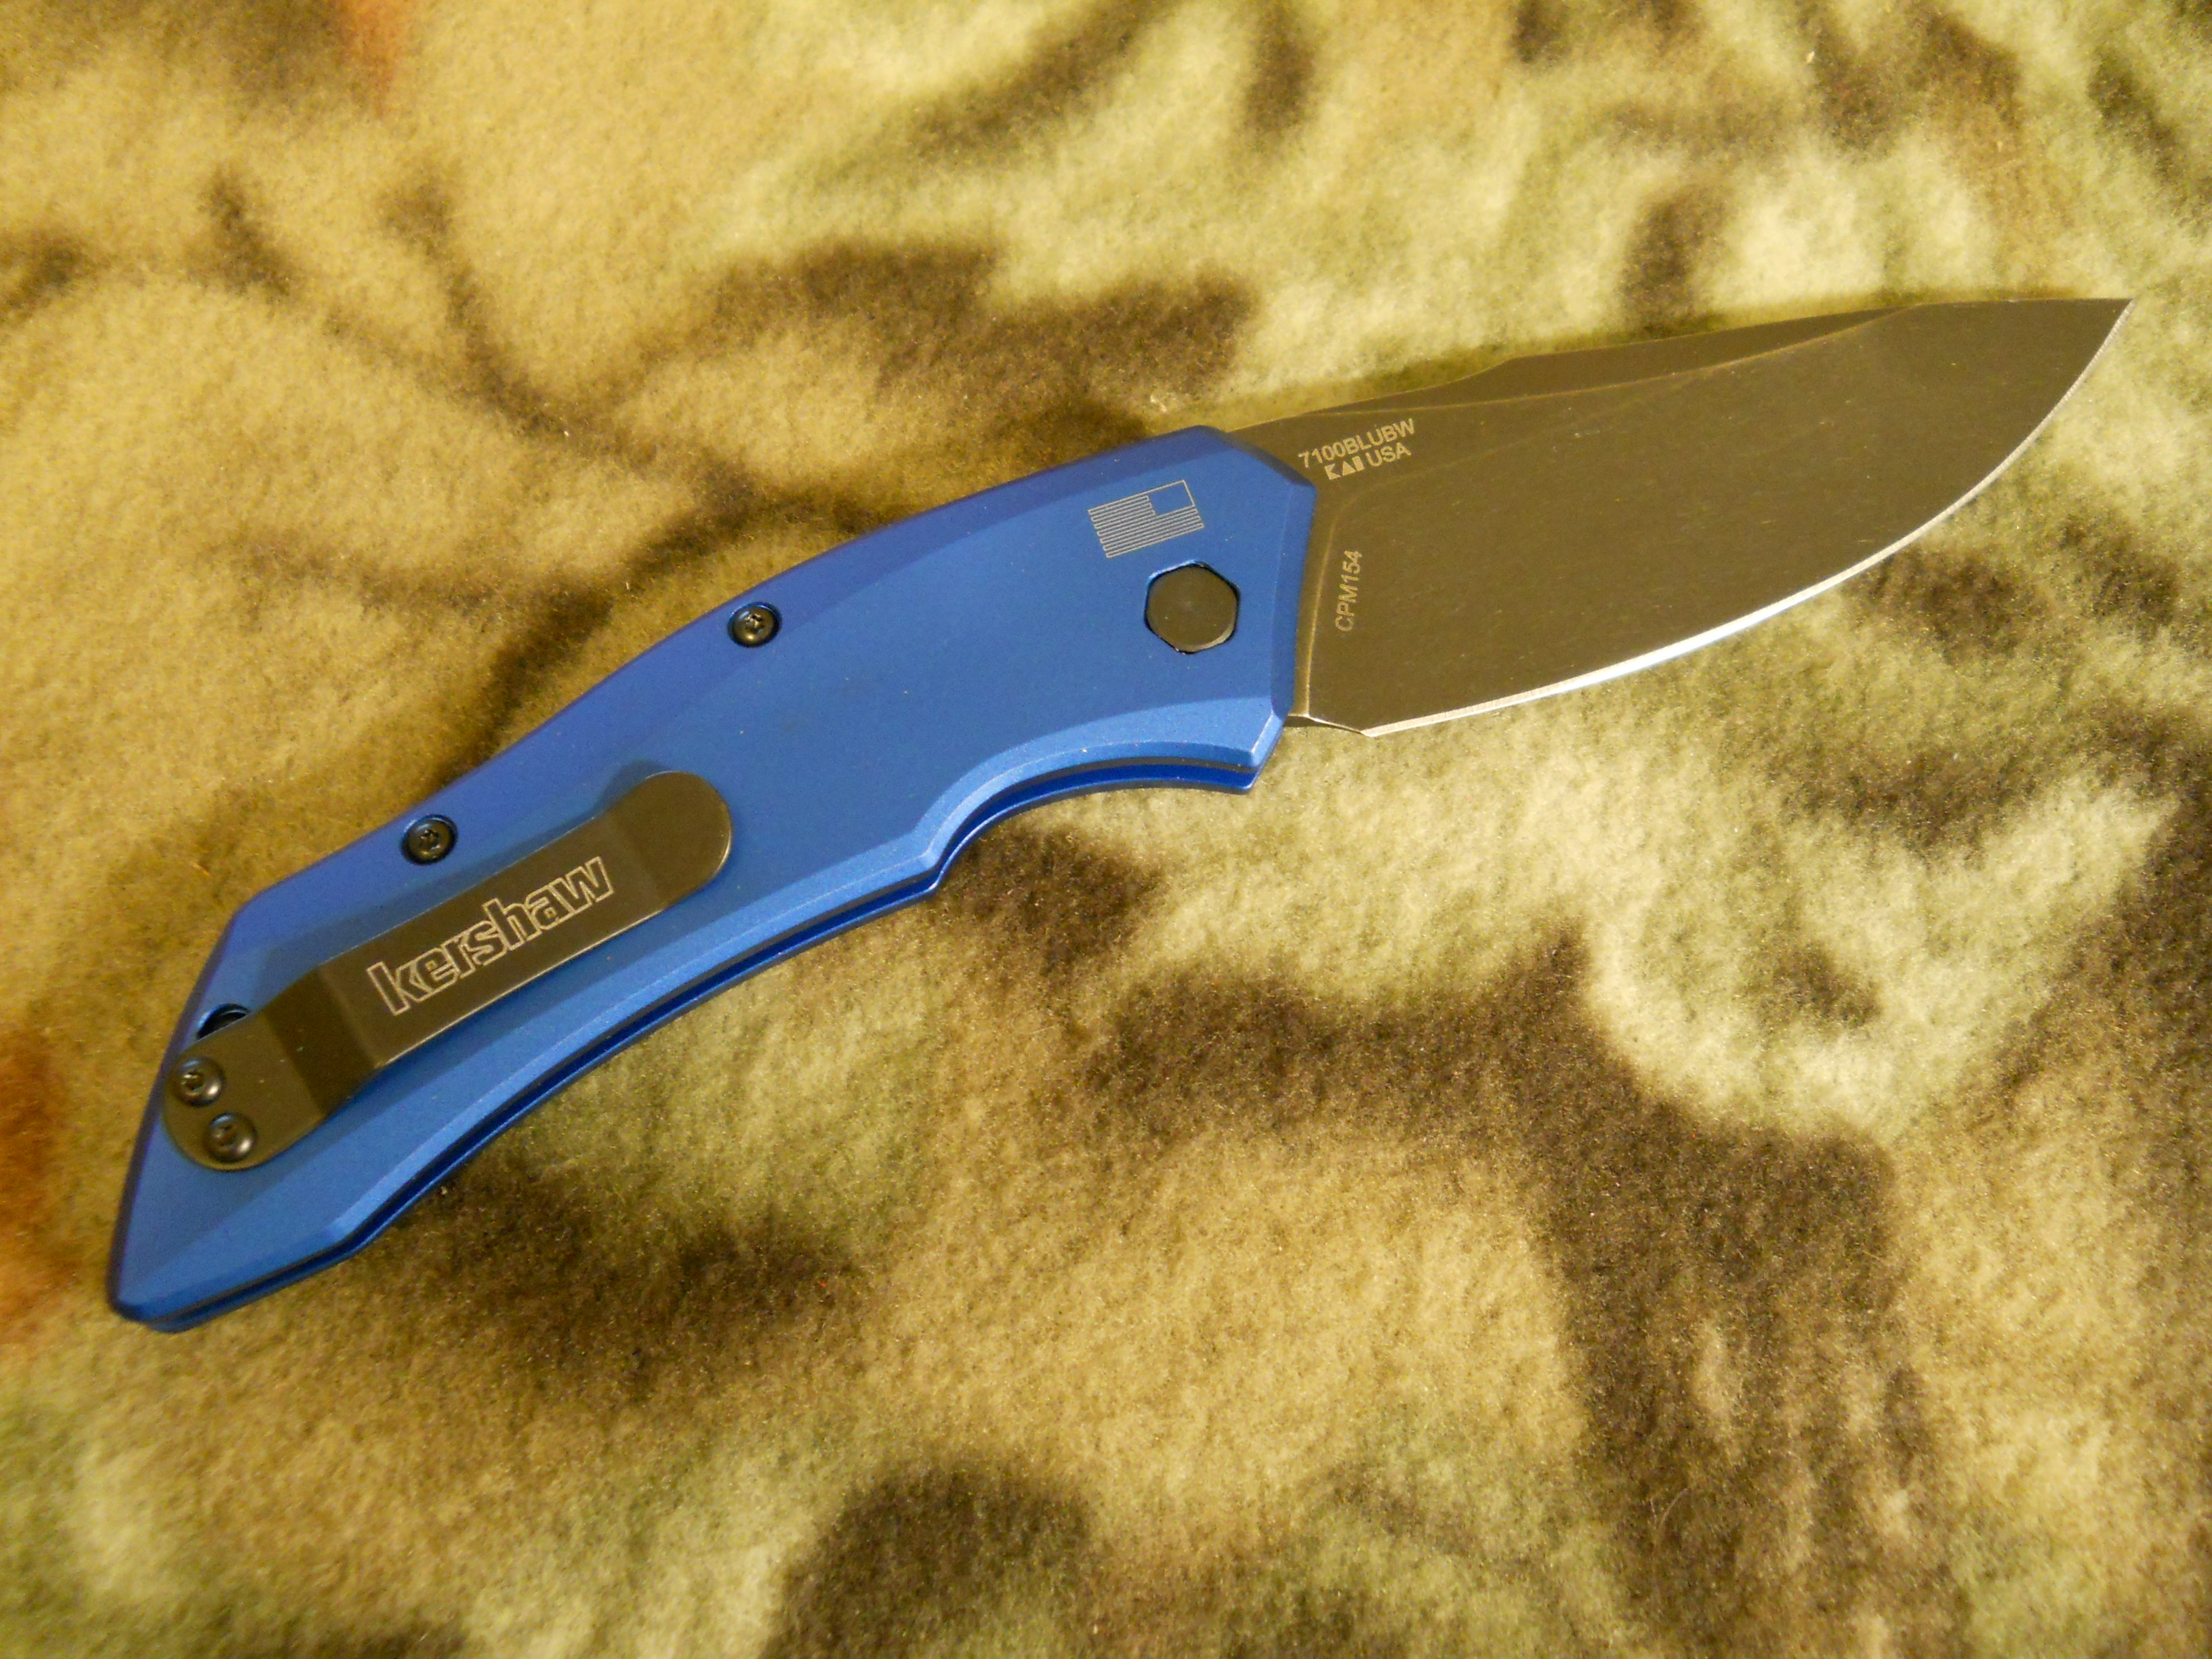knife: (1193, 275, 2174, 735)
